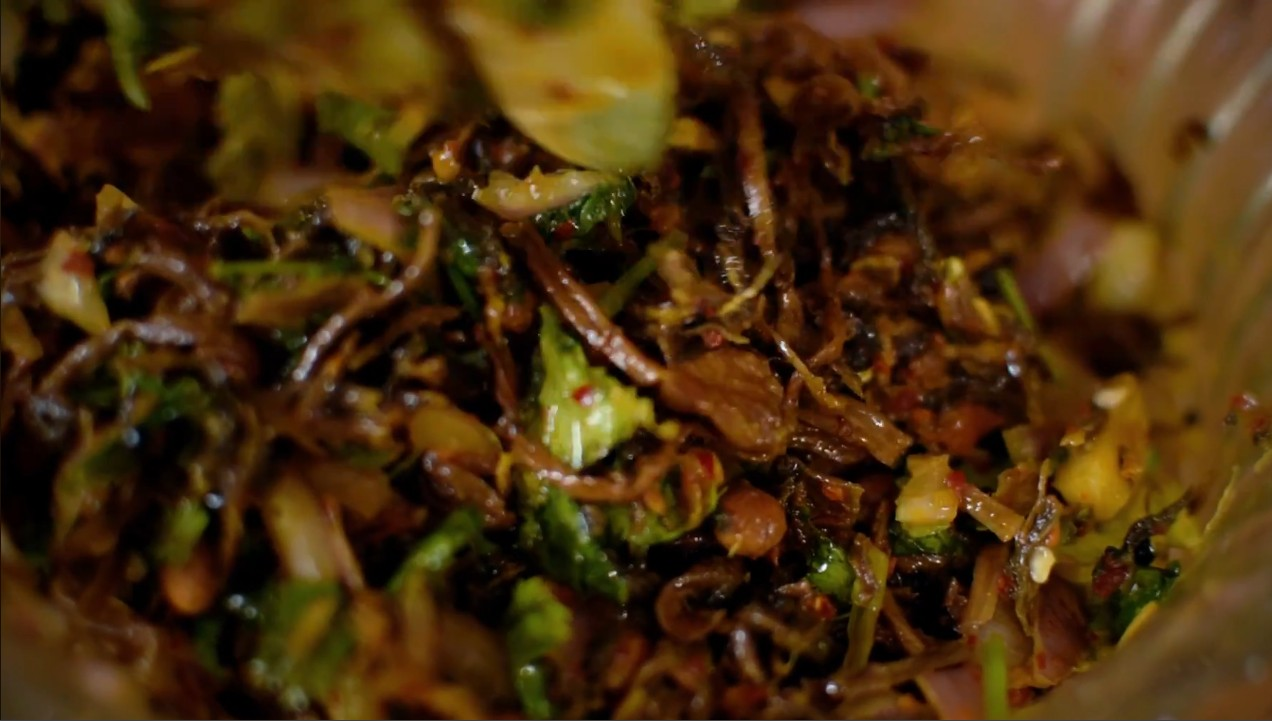gundruk: (33, 37, 1123, 700)
